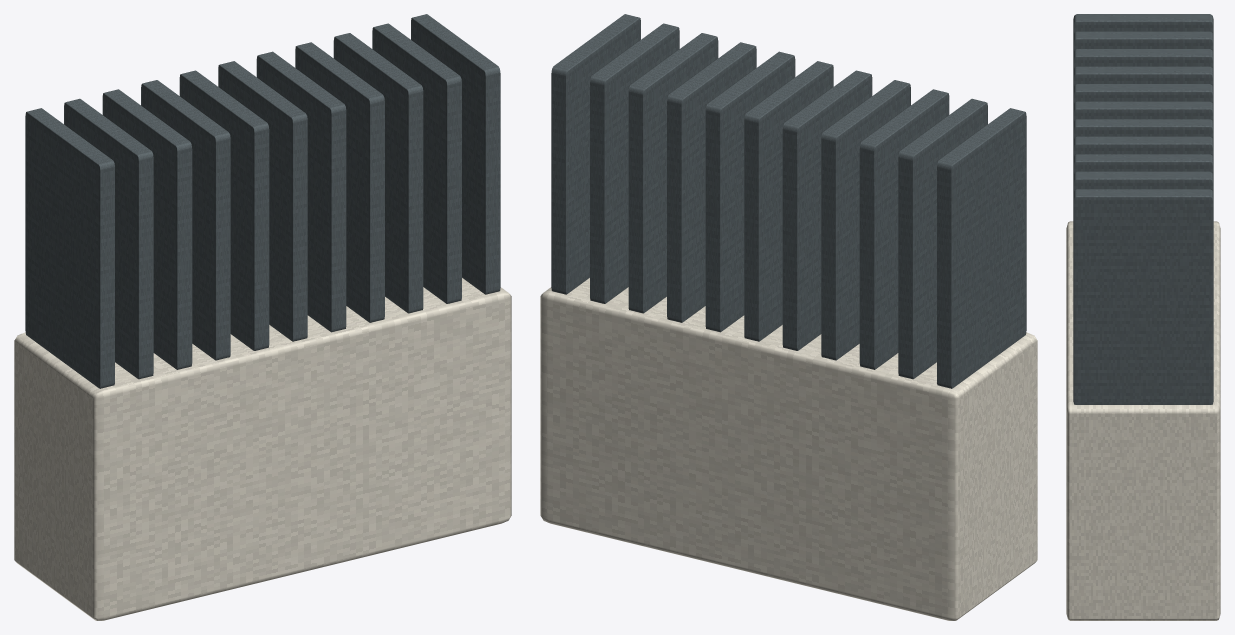
The model's file is speaker.glb.
3 renders of one model, left to right at view 1: azimuth 30°, elevation 25°; view 2: azimuth 150°, elevation 25°; view 3: azimuth 270°, elevation 25°, orthographic. The views are drawn at different scales.
Parts seen in each view (by area): view 1: slat (×11), rim; view 2: slat (×11), rim; view 3: slat (×11), rim.
Part boxes in pixels (bbox=[...]): slat (×11): bbox=[25, 14, 500, 388]; rim: bbox=[14, 278, 511, 620]; slat (×11): bbox=[551, 14, 1026, 388]; rim: bbox=[540, 278, 1037, 620]; slat (×11): bbox=[1073, 14, 1213, 404]; rim: bbox=[1066, 221, 1220, 620].
Size of the model in its own units: 0.19 by 0.197 by 0.065.
2 materials, 2 textured.
